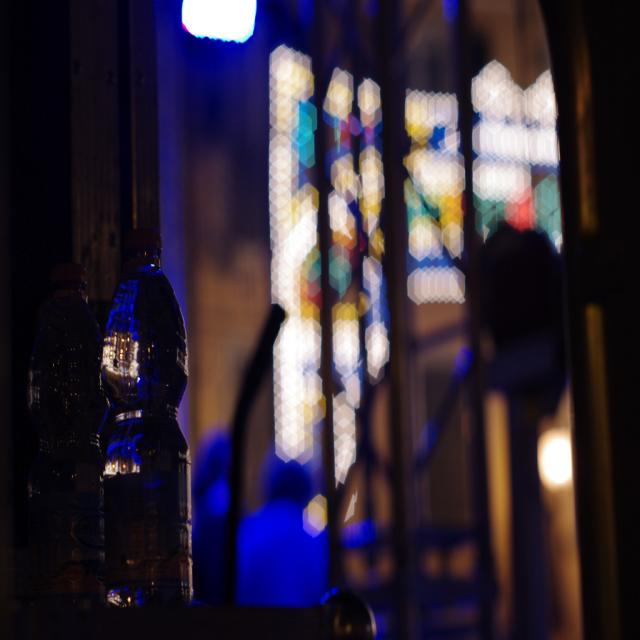Bottle: (97, 195, 205, 619), (25, 259, 126, 603)
